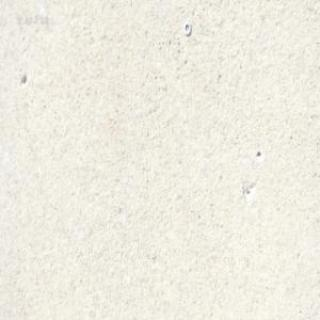Washertrack_idkeyframe: (182, 20, 190, 36)
